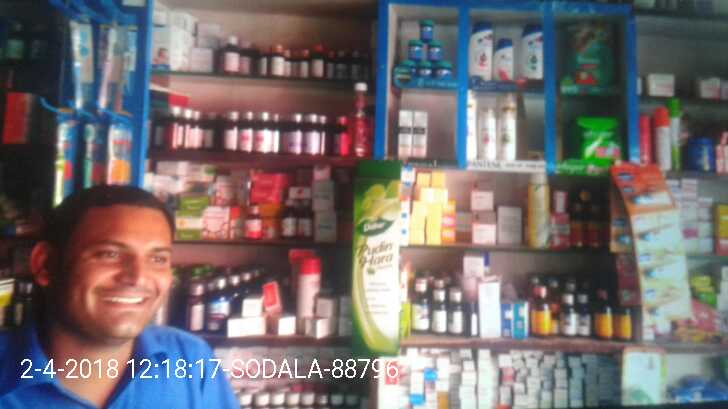oralcare: (44, 5, 139, 209)
vicks: (402, 18, 449, 78)
